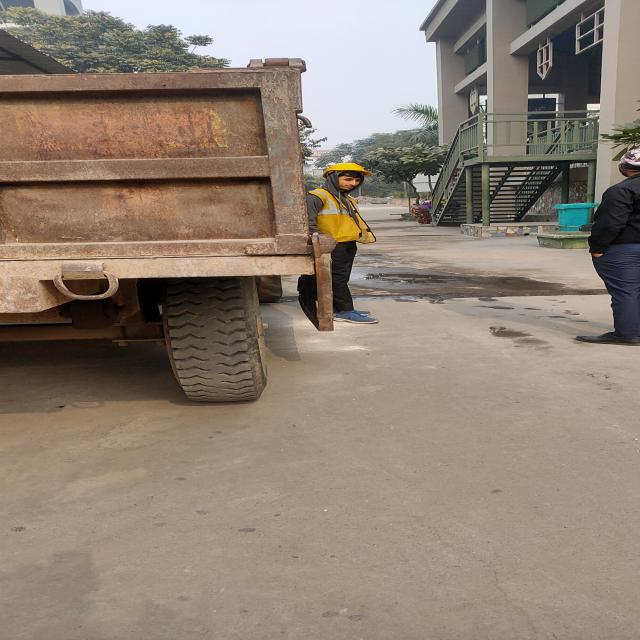safe: (308, 158, 384, 331)
